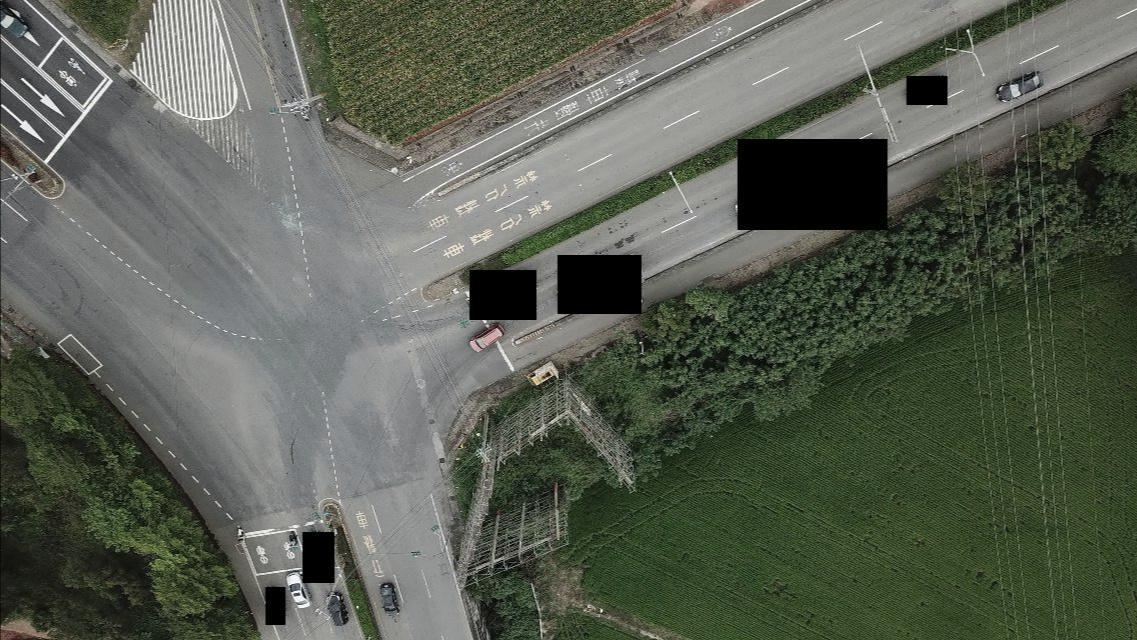vehicle: (996, 72, 1044, 104), (1, 3, 30, 40), (469, 323, 505, 352), (285, 573, 312, 609), (324, 592, 350, 626), (380, 582, 399, 616), (527, 366, 553, 387)
